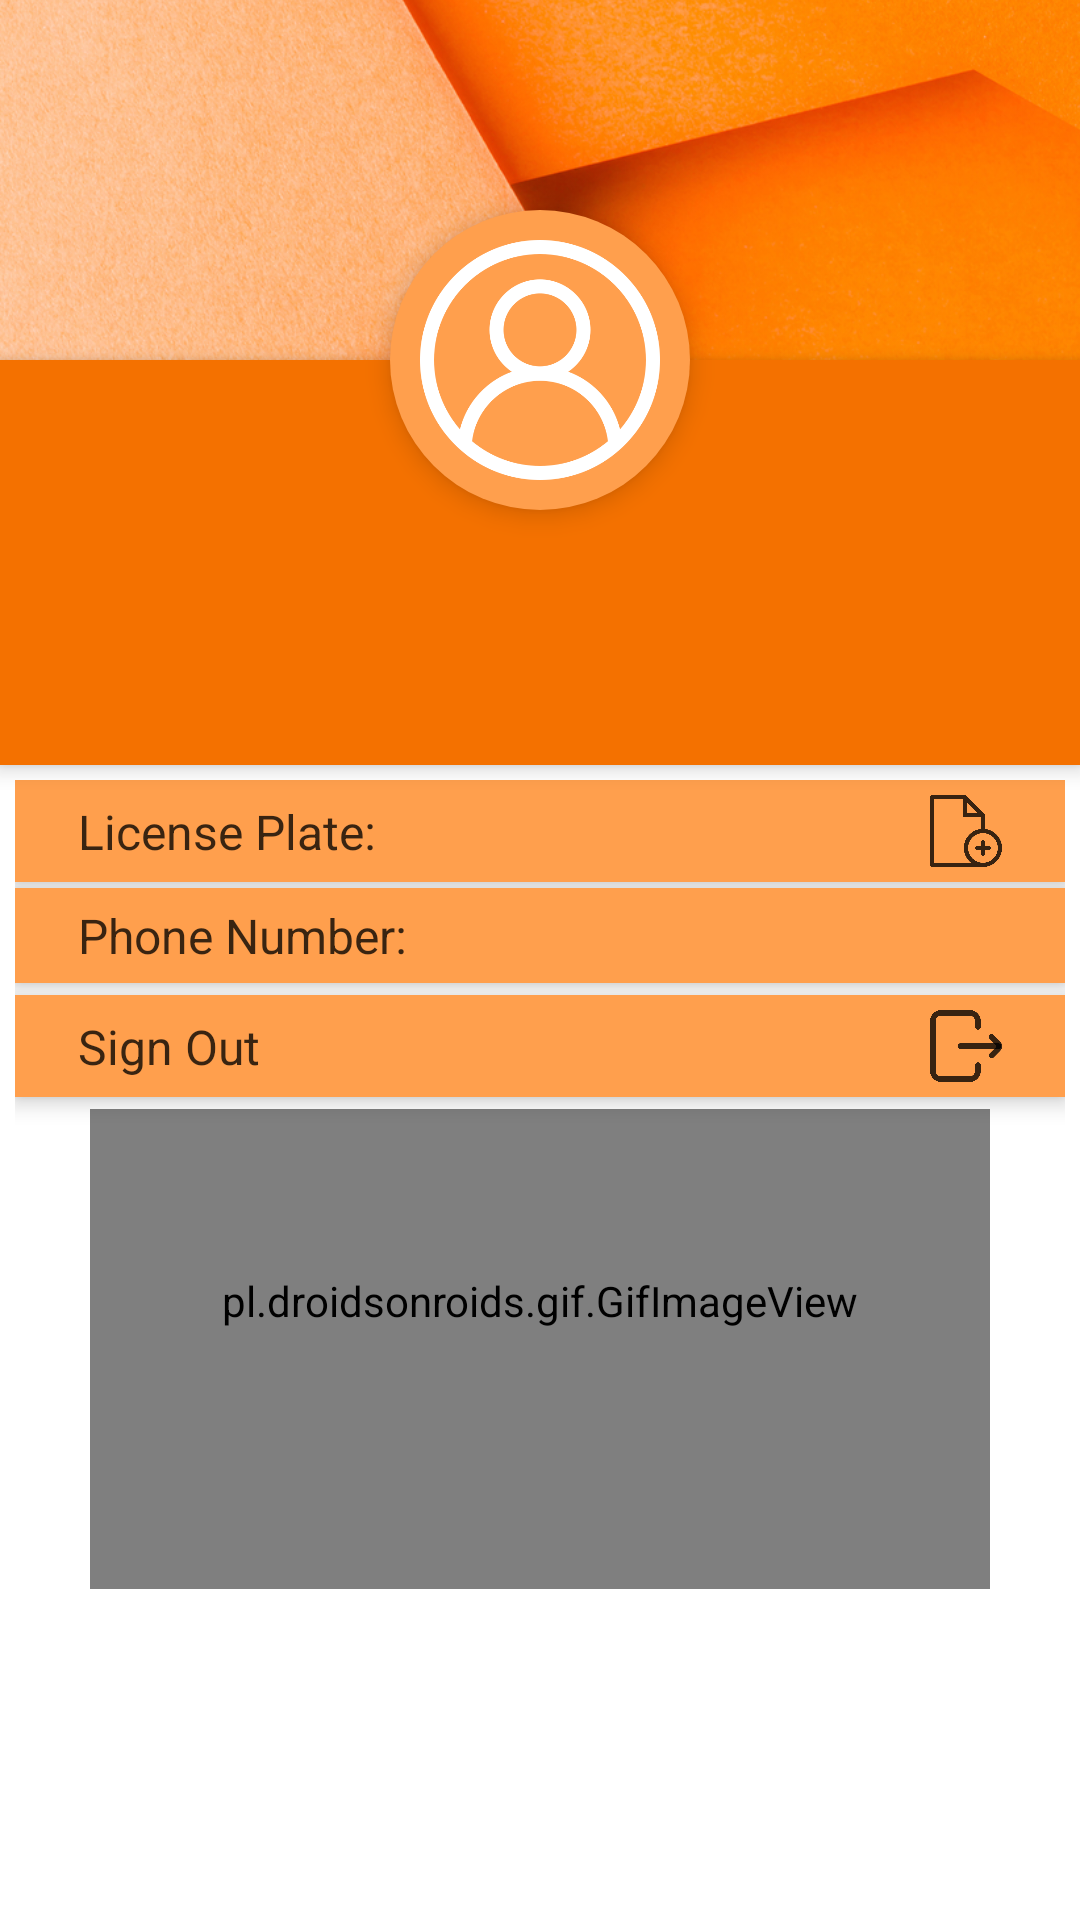

Locate icon controls on the screen. Image size 1080x1920, boxes as bbox=[x1, y1, x2, y2].
profile: bbox=[390, 210, 690, 510]
sign out: bbox=[930, 1010, 1002, 1082]
